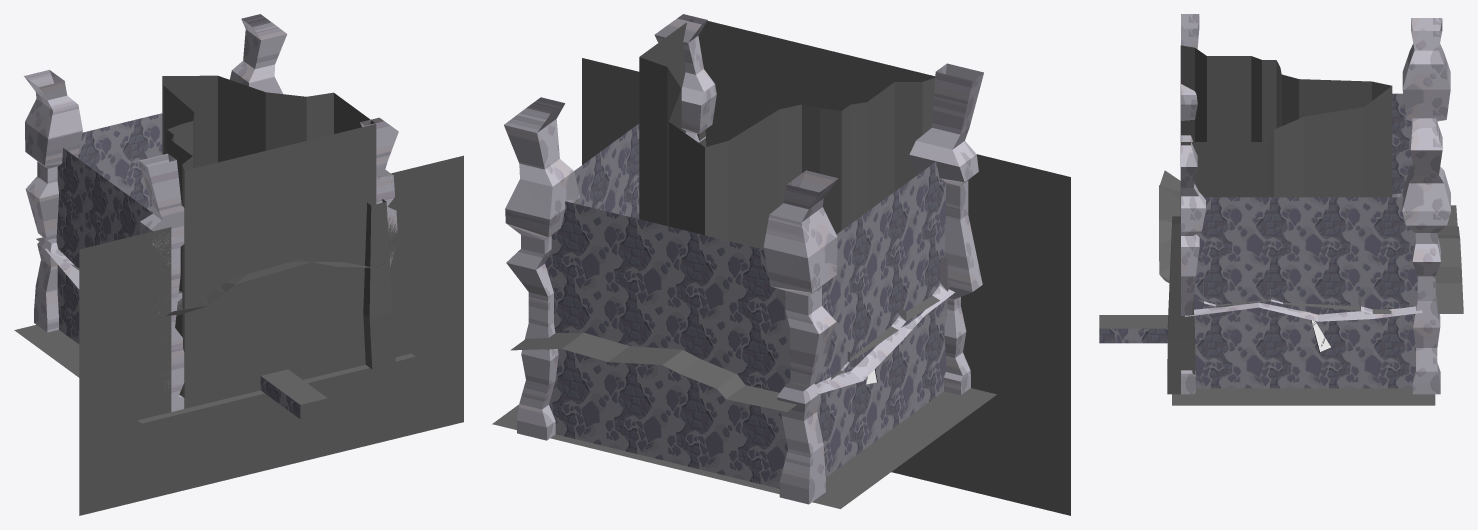
The model's file is jin_05_bake_split.dae.
3 views of the same model, side by side, from view 1: azimuth 30°, elevation 25°; view 2: azimuth 150°, elevation 25°; view 3: azimuth 270°, elevation 25° (orthographic). The views are drawn at different scales.
Visible parts, largest first — view 1: S_msk, a_gawa01, S_hasi, S_kabe, a_hashira01, a_yuka, a_hashira02, a_ana, pPlane452, pCube56, S_hari; view 2: S_kabe, a_gawa01, S_hasi, S_msk, a_yuka, a_hashira02, S_hari; view 3: S_kabe, a_gawa01, S_hasi, a_hashira02, a_yuka, a_hashira01, S_hari, pCube56, pPlane452, a_ana.
Boxes of the visible parts, x1,y1,x2,y2 form: S_msk: (79, 155, 463, 515); a_gawa01: (162, 75, 376, 408); S_hasi: (24, 14, 398, 411); S_kabe: (56, 113, 162, 344); a_hashira01: (363, 199, 395, 369); a_yuka: (14, 324, 415, 423); a_hashira02: (36, 211, 385, 316); a_ana: (261, 370, 327, 419); pPlane452: (282, 369, 327, 404); pCube56: (260, 376, 300, 418); S_hari: (45, 248, 182, 305); S_kabe: (545, 123, 947, 488); a_gawa01: (639, 18, 935, 249); S_hasi: (504, 14, 983, 504); S_msk: (582, 58, 1070, 515); a_yuka: (492, 388, 996, 508); a_hashira02: (510, 282, 951, 411); S_hari: (815, 257, 954, 394); S_kabe: (1193, 93, 1417, 388); a_gawa01: (1180, 45, 1392, 223); S_hasi: (1181, 14, 1450, 394); a_hashira02: (1159, 170, 1463, 313); a_yuka: (1172, 388, 1435, 405); a_hashira01: (1167, 216, 1195, 394); S_hari: (1185, 193, 1422, 321); pCube56: (1099, 328, 1167, 343); pPlane452: (1099, 315, 1168, 328); a_ana: (1099, 315, 1167, 328).
Bounding box in the file's own units: 56.03 × 46.93 × 44.59.
